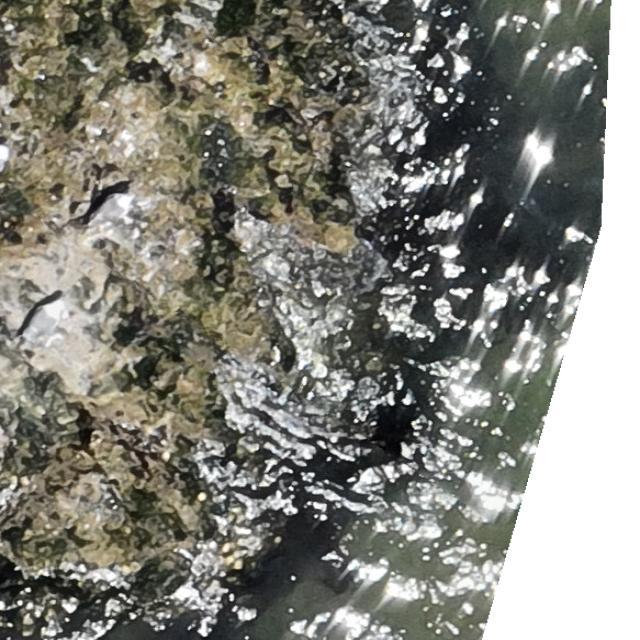umineko: (82, 194, 133, 232), (19, 302, 64, 344)
